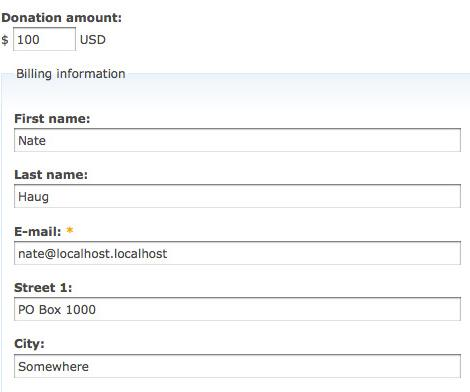field: (14, 294, 464, 323), (11, 182, 463, 210), (12, 353, 464, 381), (12, 127, 466, 154), (12, 240, 465, 267), (11, 25, 79, 53)
field_with_label: (11, 111, 468, 155), (9, 338, 466, 382), (9, 168, 465, 212), (12, 281, 466, 325), (11, 225, 467, 268), (2, 22, 107, 55)
